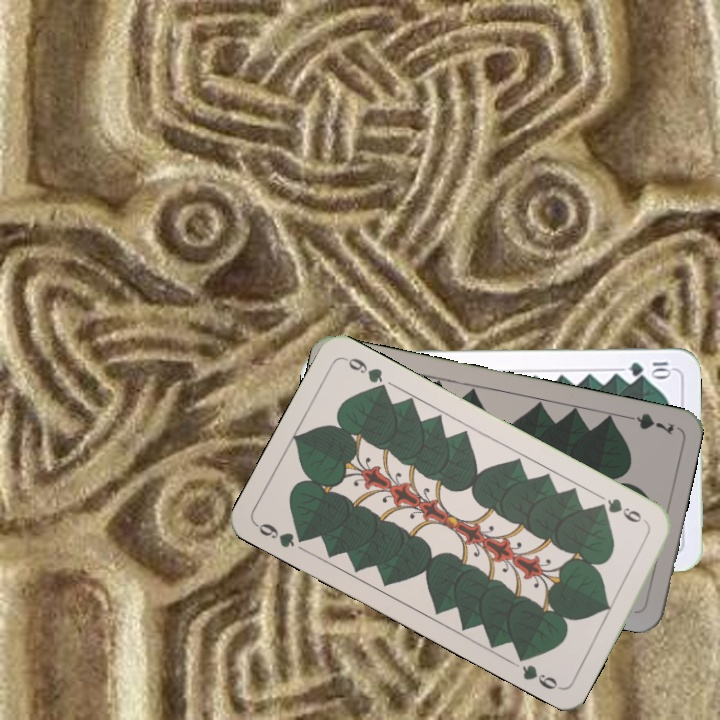G10: (625, 357, 674, 378)
G7: (619, 409, 677, 438)
G9: (252, 519, 312, 551), (593, 494, 651, 527)
